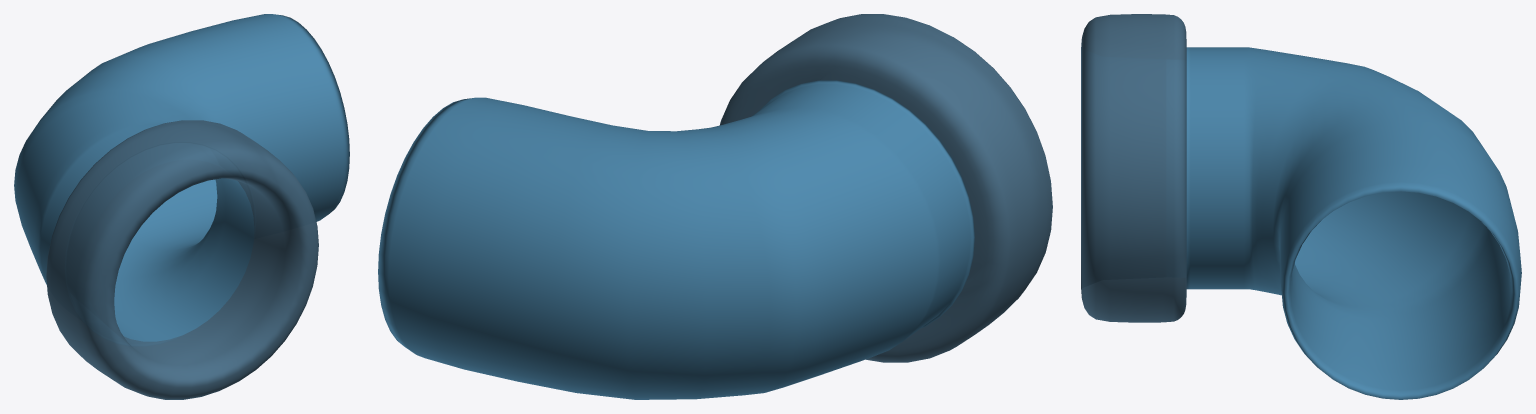
The model's file is TunnelCornerBlue.fbx.
3 renders of one model, left to right at view 1: azimuth 30°, elevation 25°; view 2: azimuth 150°, elevation 25°; view 3: azimuth 270°, elevation 25°, orthographic. The views are drawn at different scales.
Visible parts, largest first — view 1: TunnelCorner; view 2: TunnelCorner; view 3: TunnelCorner.
Boxes of the visible parts, x1=… form: TunnelCorner: x1=14, y1=14, x2=349, y2=399; TunnelCorner: x1=378, y1=14, x2=1052, y2=399; TunnelCorner: x1=1081, y1=14, x2=1521, y2=399.
Size of the model in its own units: 4.62 by 3.13 by 4.46.
